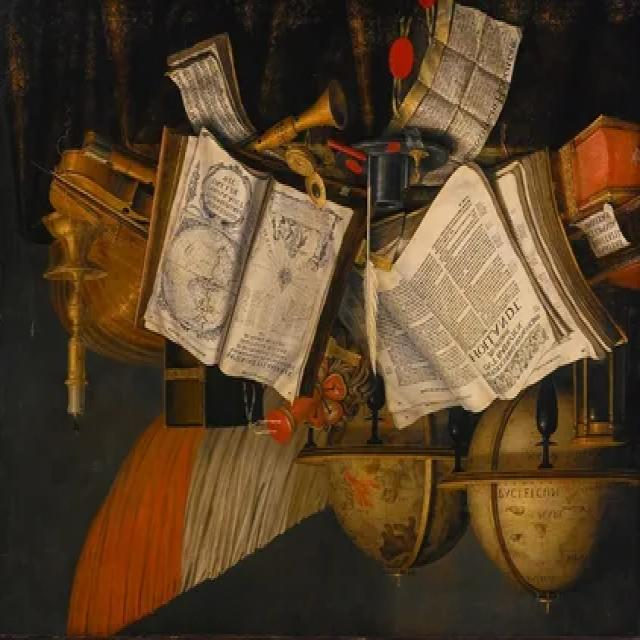book: (128, 136, 370, 404)
